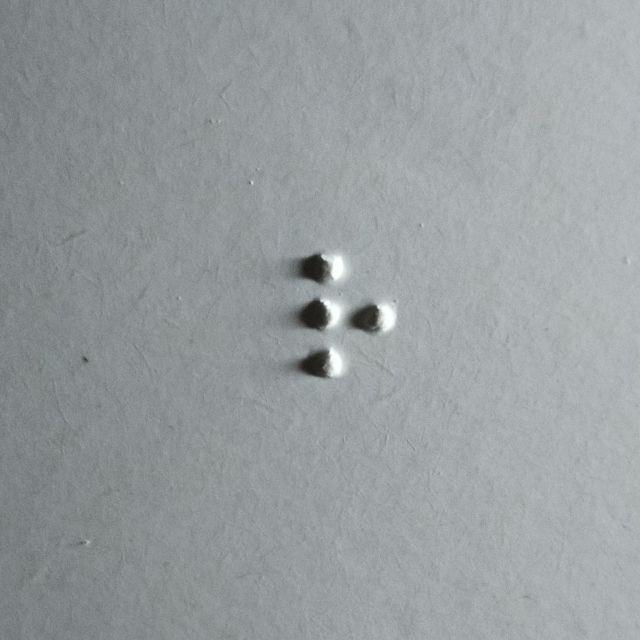rin: (302, 252, 396, 379)
